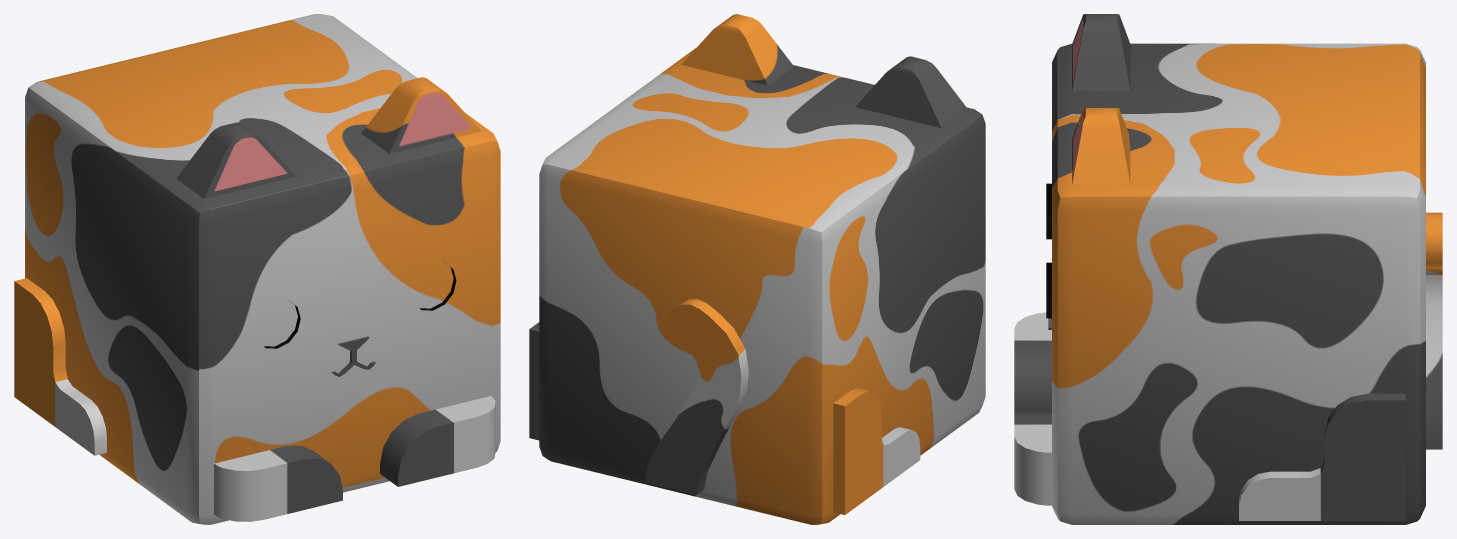
The model's file is Cube_CalicoCat.glb.
3 renders of one model, left to right at view 1: azimuth 30°, elevation 25°; view 2: azimuth 150°, elevation 25°; view 3: azimuth 270°, elevation 25°, orthographic. The views are drawn at different scales.
Visible parts, largest first — view 1: CalicoCat; view 2: CalicoCat; view 3: CalicoCat.
Part boxes in pixels (<box>): CalicoCat: <box>14,14,500,524</box>; CalicoCat: <box>529,14,985,524</box>; CalicoCat: <box>1014,14,1442,524</box>.
Size of the model in its own units: 1.08 by 1.15 by 1.14.
1 material, 1 textured.
